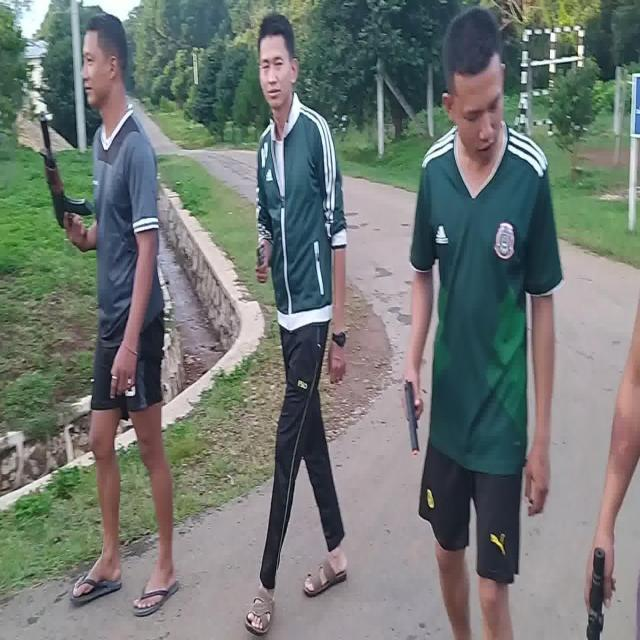gun: (39, 112, 93, 238), (404, 381, 420, 453)
